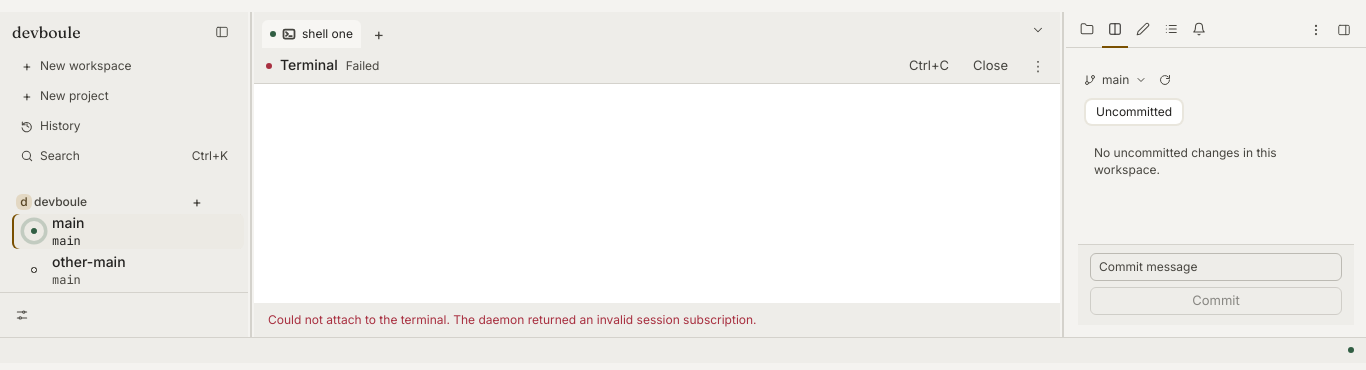
Test: Workspace sessions › selecting a workspace shows only its tabs, and an empty workspace shows the empty state
The image size is (1366, 370).
Expected: the tab with id "workspace-session-tab-session-1" is shown, [262,20,361,48]
Click the button with class "workspace-row" showing "other-main main".
click(128, 270)  # box [12,253,244,288]
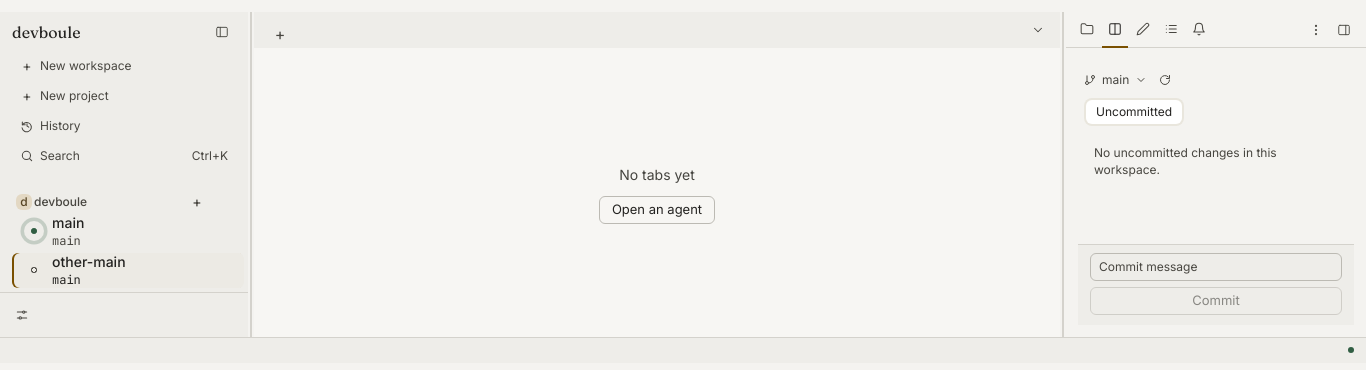
Expected: the tab with id "workspace-session-tab-session-1" is gone
Expected: the text "No tabs yet" is shown, [619,165,695,186]
